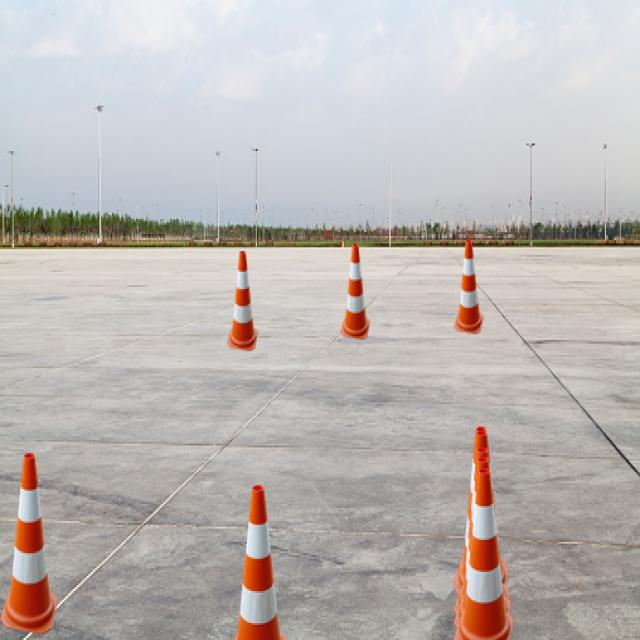large_orange_cone: (0, 453, 58, 634), (454, 457, 512, 638), (454, 468, 514, 640), (454, 447, 510, 625), (454, 430, 509, 602), (227, 485, 288, 640), (453, 426, 508, 596), (227, 251, 258, 351), (340, 243, 370, 340), (454, 240, 484, 334)
